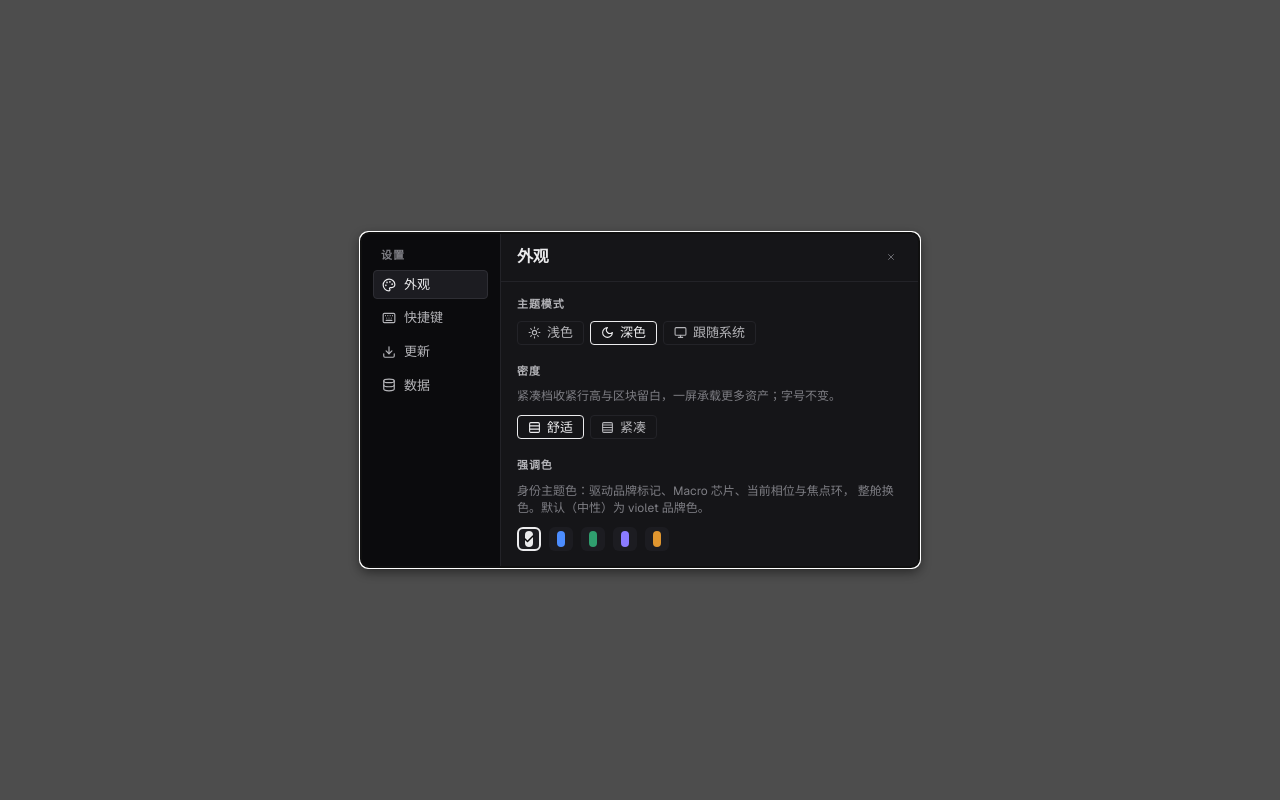
Scenario: SettingsModal — data page export/import › export writes to the chosen path and reports success
Click the button "数据".
click(430, 385)  # box [373, 371, 488, 400]
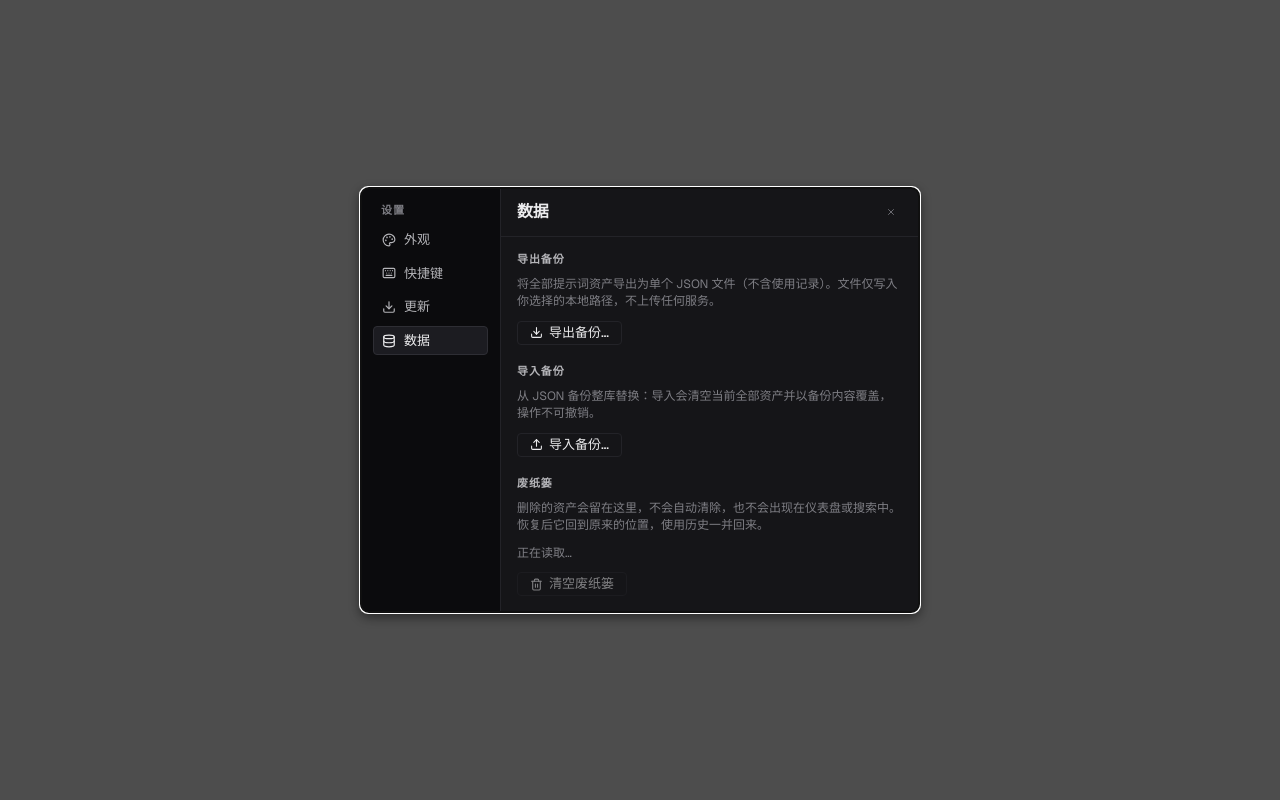
Click the button "导出备份…".
click(570, 333)  # box [517, 321, 622, 345]
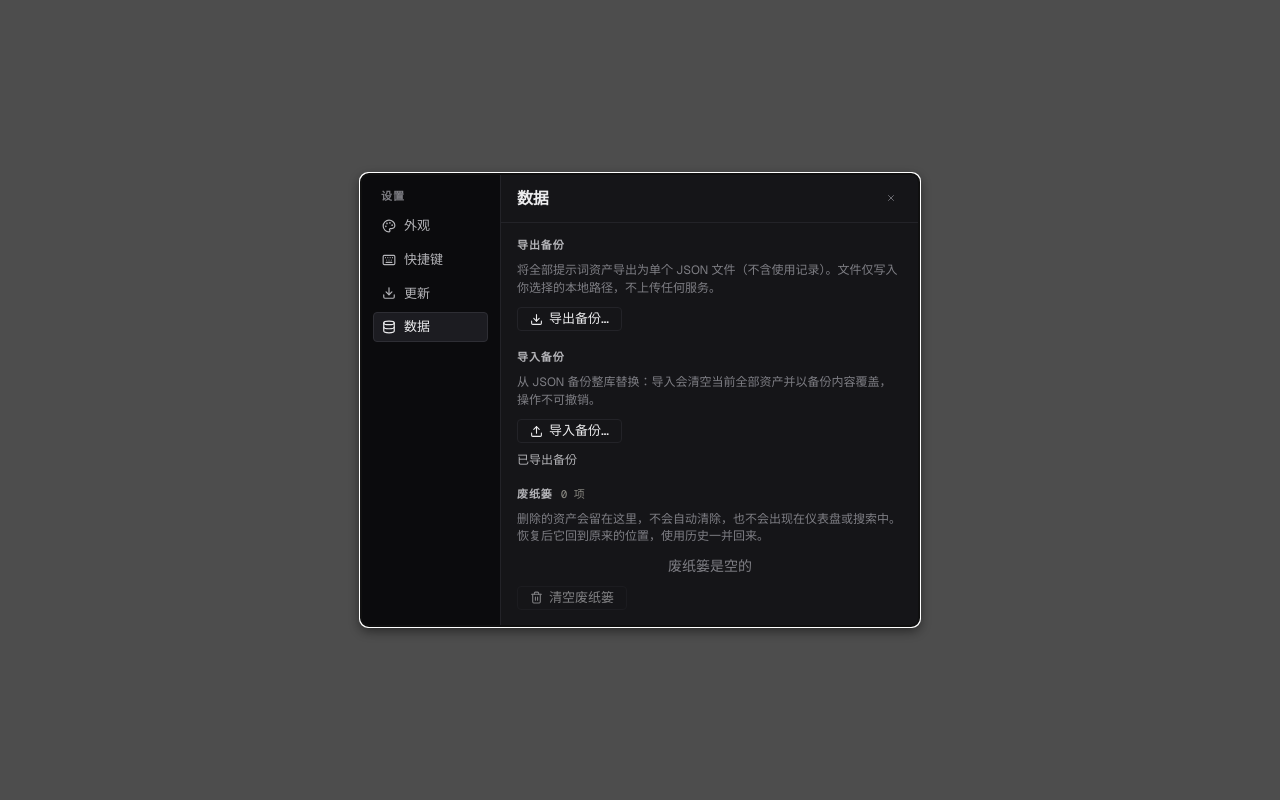
Now the text "已导出备份" is shown, box [517, 453, 577, 468]
